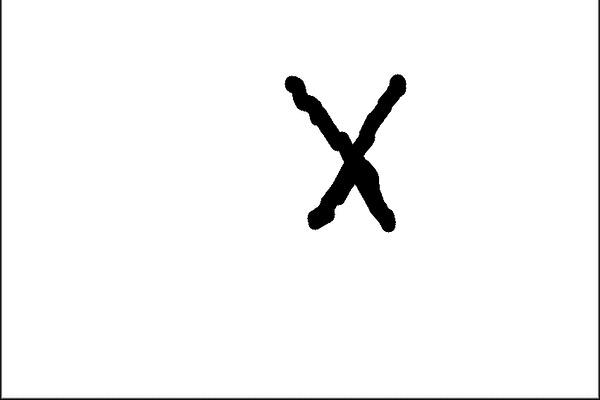X: (267, 60, 417, 245)
